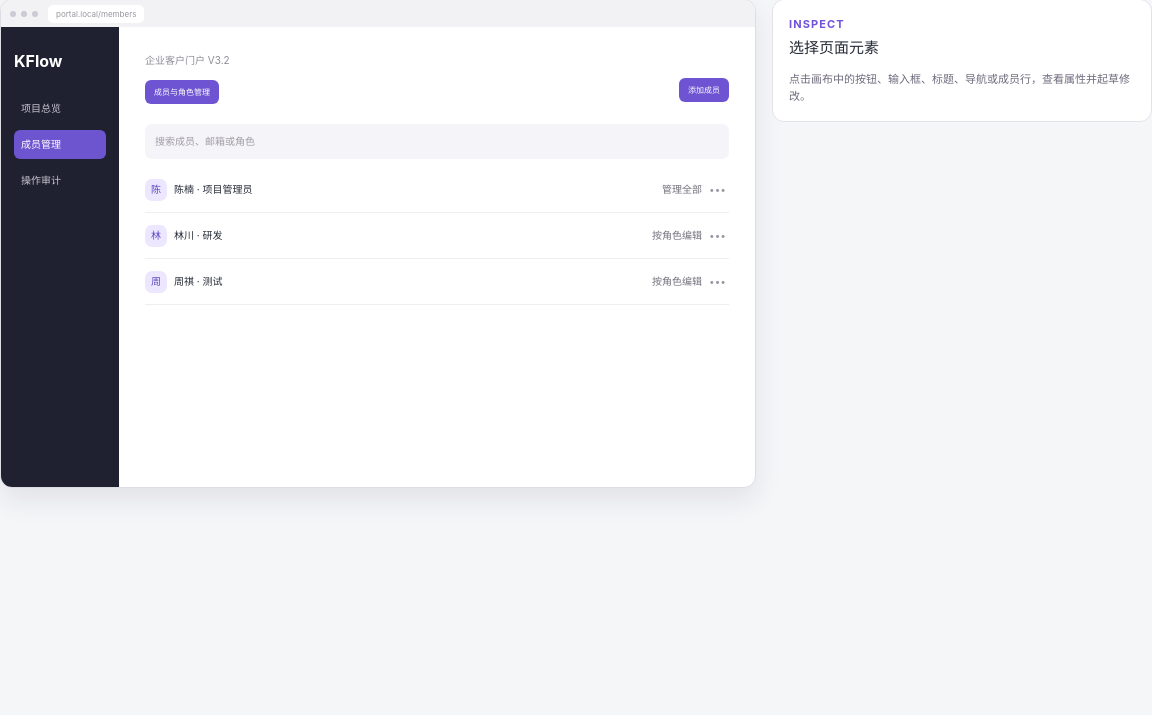
selects an element, previews a text change, applies it, and undoes it
Click the button with aria-label "选择添加成员按钮". click: click(704, 90)
box: x1=679 y1=78 x2=729 y2=102
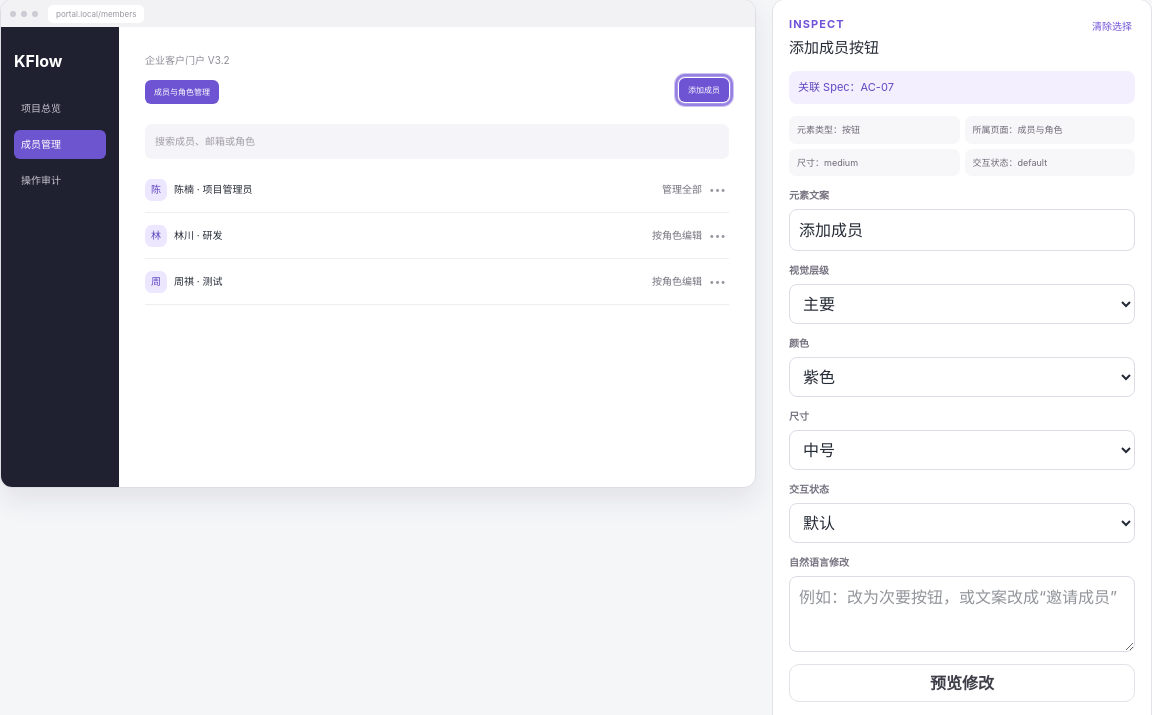
expect the text "关联 Spec：AC-07" is shown: met, box x1=789 y1=71 x2=1135 y2=104
expect the text "元素类型：按钮" is shown: met, box x1=789 y1=116 x2=960 y2=144
expect the text "所属页面：成员与角色" is shown: met, box x1=964 y1=116 x2=1135 y2=144
Replace the text in the field labelled "元素文案" with "邀请成员". click: (962, 230)
box: x1=789 y1=209 x2=1135 y2=251
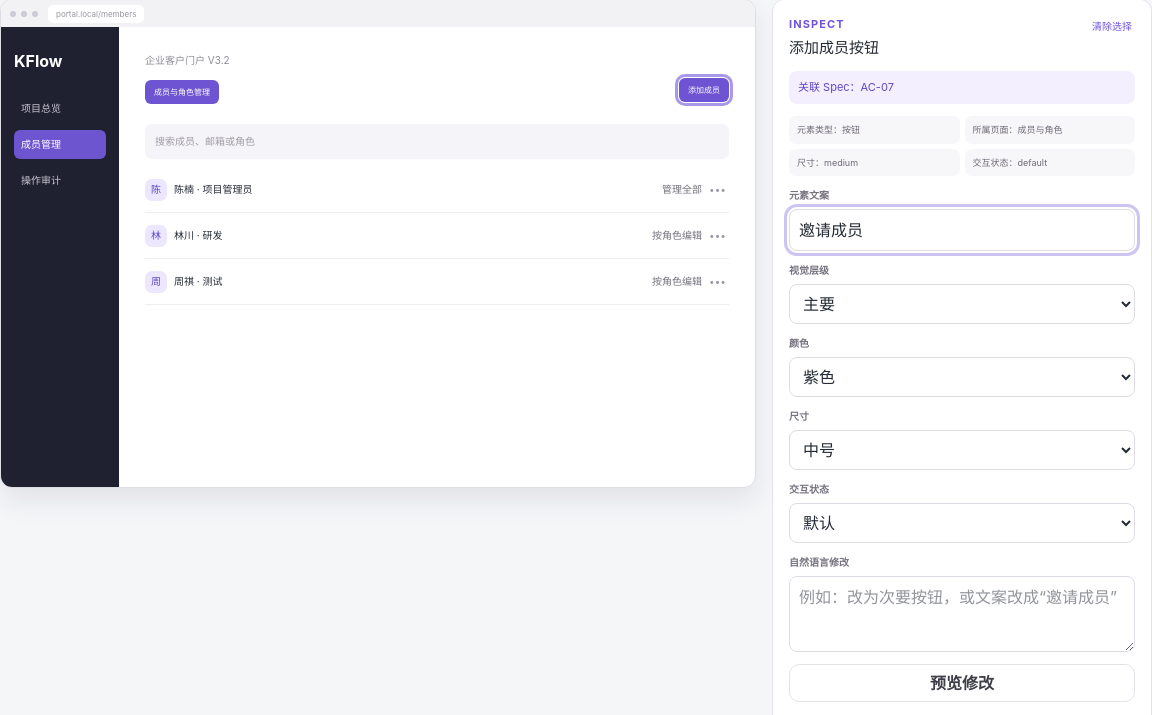
Click the button "预览修改". click: click(962, 683)
box: x1=789 y1=664 x2=1135 y2=702
(page scrolled)
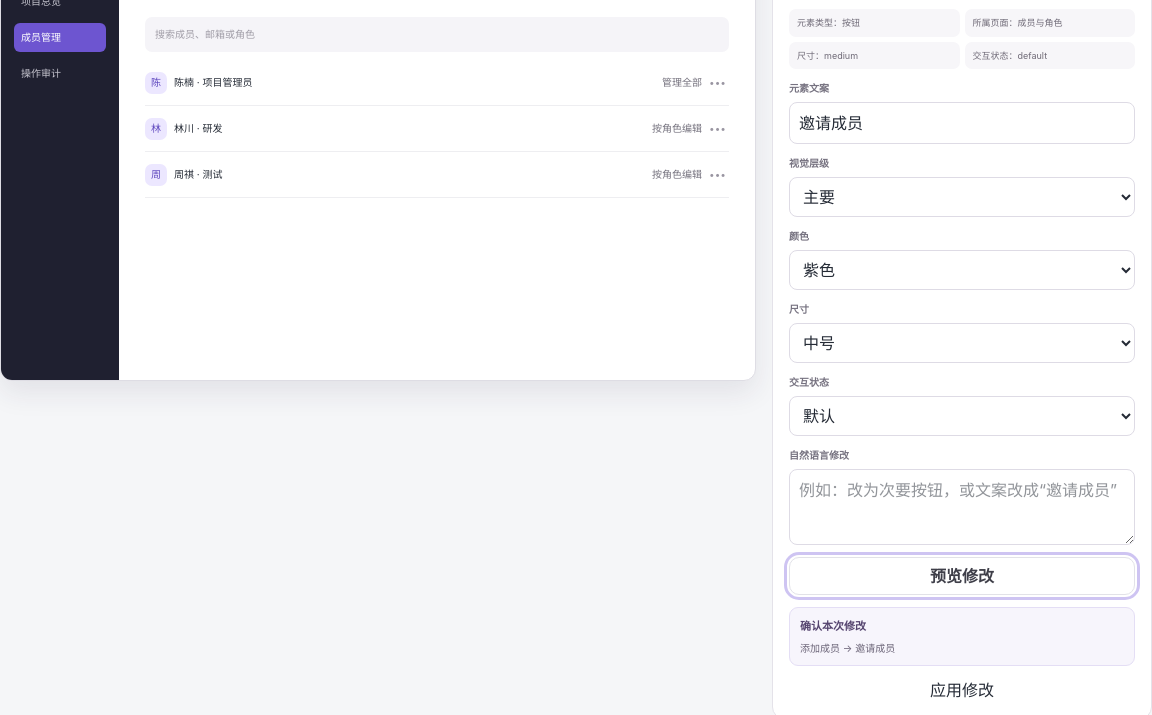
expect the text "添加成员 → 邀请成员" is shown: met, box x1=800 y1=642 x2=895 y2=654
Click the button "应用修改". click: click(962, 690)
box: x1=789 y1=678 x2=1135 y2=702
(page scrolled)
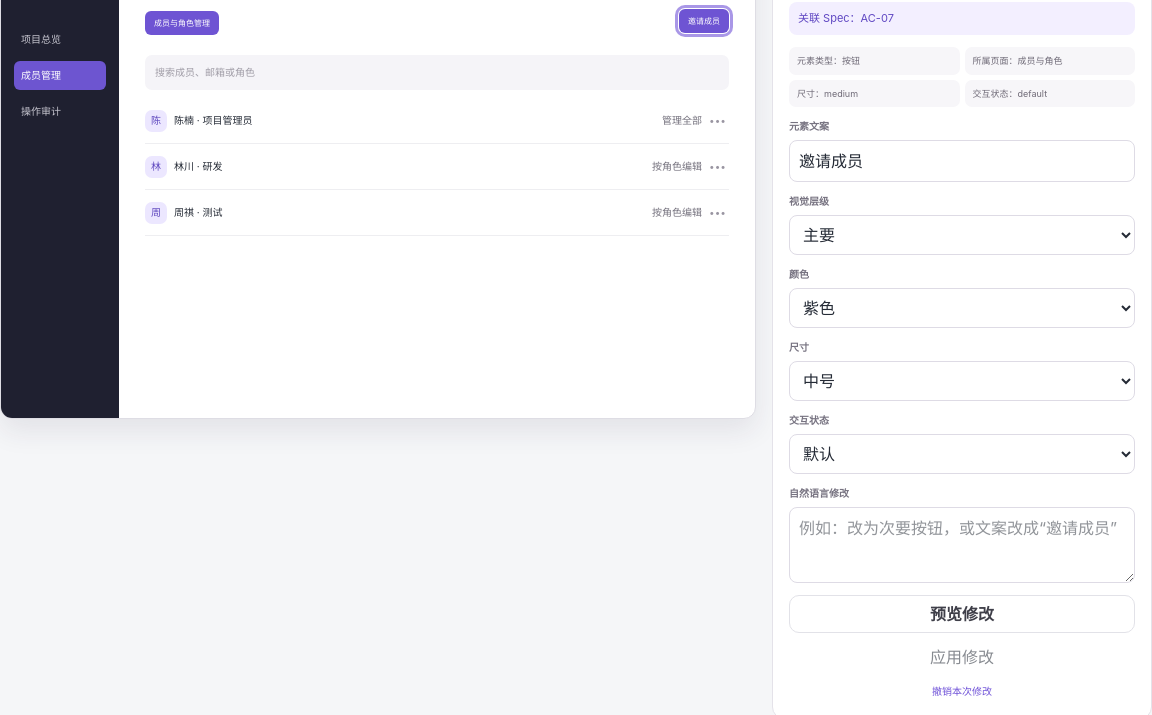
expect the button with aria-label "选择邀请成员按钮" is shown: met, box x1=679 y1=8 x2=729 y2=32
Click the button "撤销本次修改". click: click(962, 692)
box: x1=929 y1=681 x2=995 y2=702
(page scrolled)
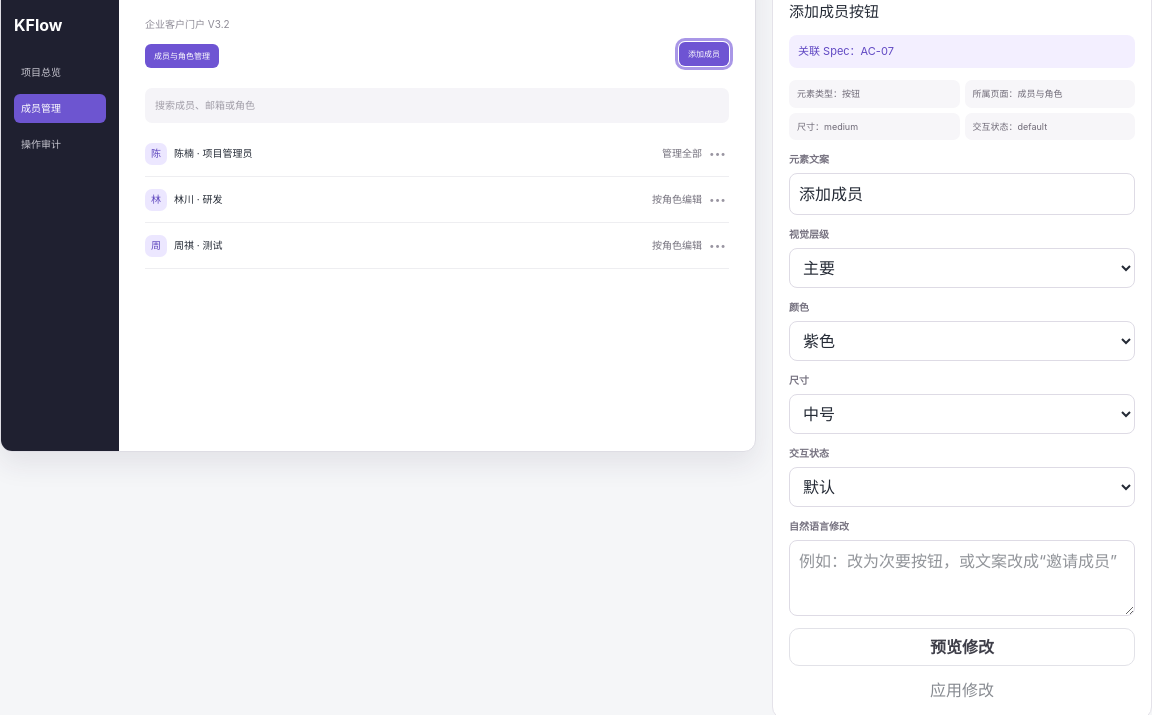
expect the button with aria-label "选择添加成员按钮" is shown: met, box x1=679 y1=42 x2=729 y2=66
